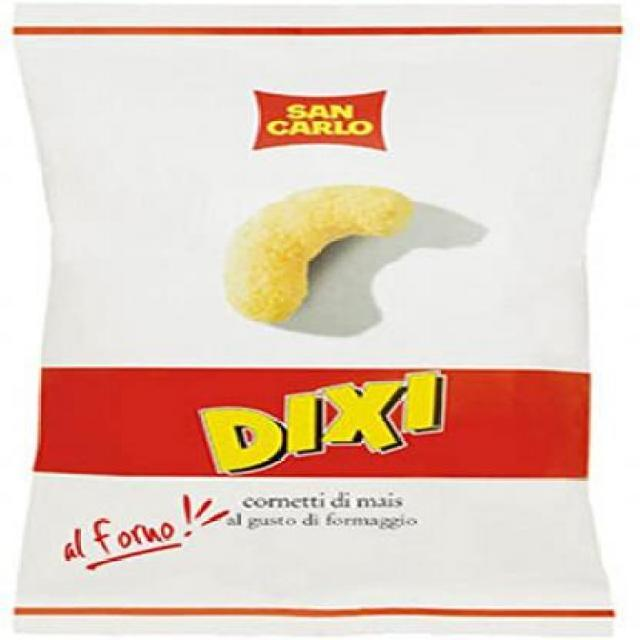Chips: (10, 10, 618, 628)
